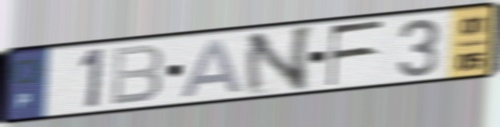1: (77, 46, 107, 111)
3: (395, 17, 442, 78)
A: (177, 36, 246, 100)
B: (108, 43, 167, 108)
F: (325, 18, 387, 89)
N: (242, 23, 317, 98)
